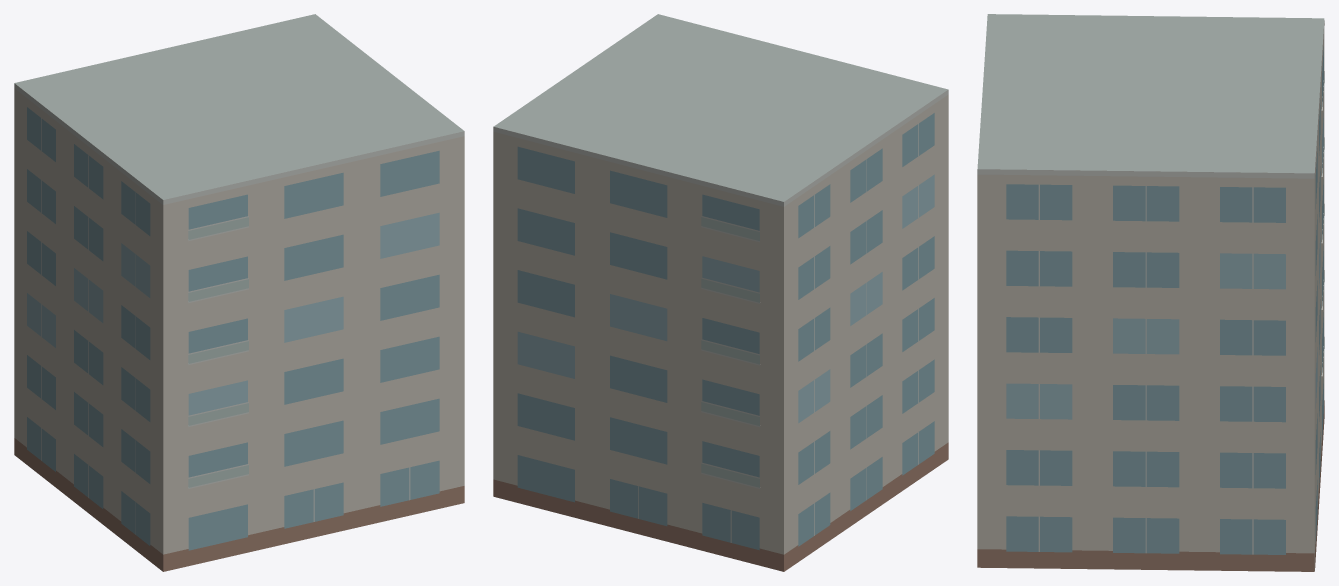
The model's file is survey-upis-32812575.glb.
3 renders of one model, left to right at view 1: azimuth 30°, elevation 25°; view 2: azimuth 150°, elevation 25°; view 3: azimuth 270°, elevation 25°, orthographic. The views are drawn at different scales.
Visible parts, largest first — view 1: survey-upis-32812575.tmp; view 2: survey-upis-32812575.tmp; view 3: survey-upis-32812575.tmp.
Part boxes in pixels (x1,y1,x2,y2): survey-upis-32812575.tmp: [14, 14, 464, 571]; survey-upis-32812575.tmp: [493, 14, 948, 571]; survey-upis-32812575.tmp: [977, 14, 1324, 571].
Bounding box in the file's own units: 15.71 × 18.3 × 14.45.
